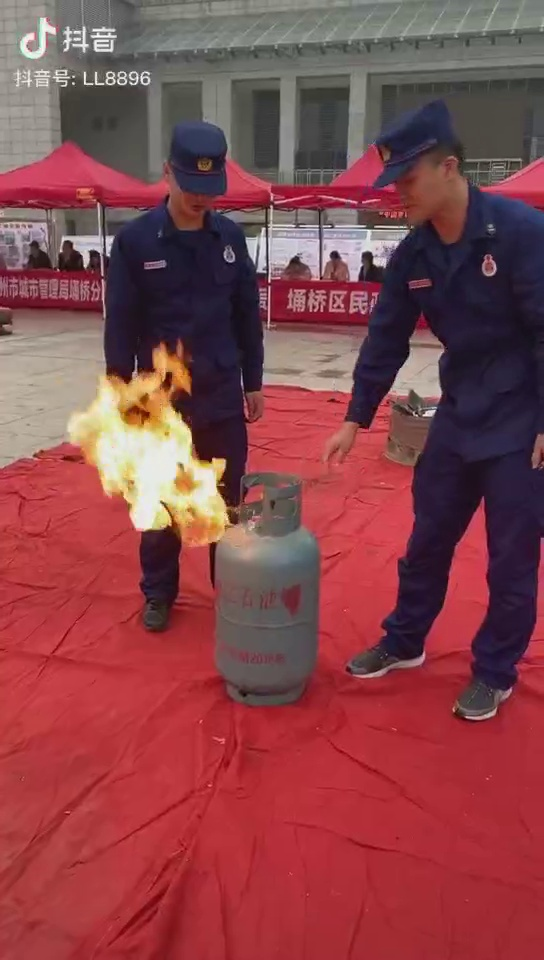fire: (88, 366, 228, 543)
